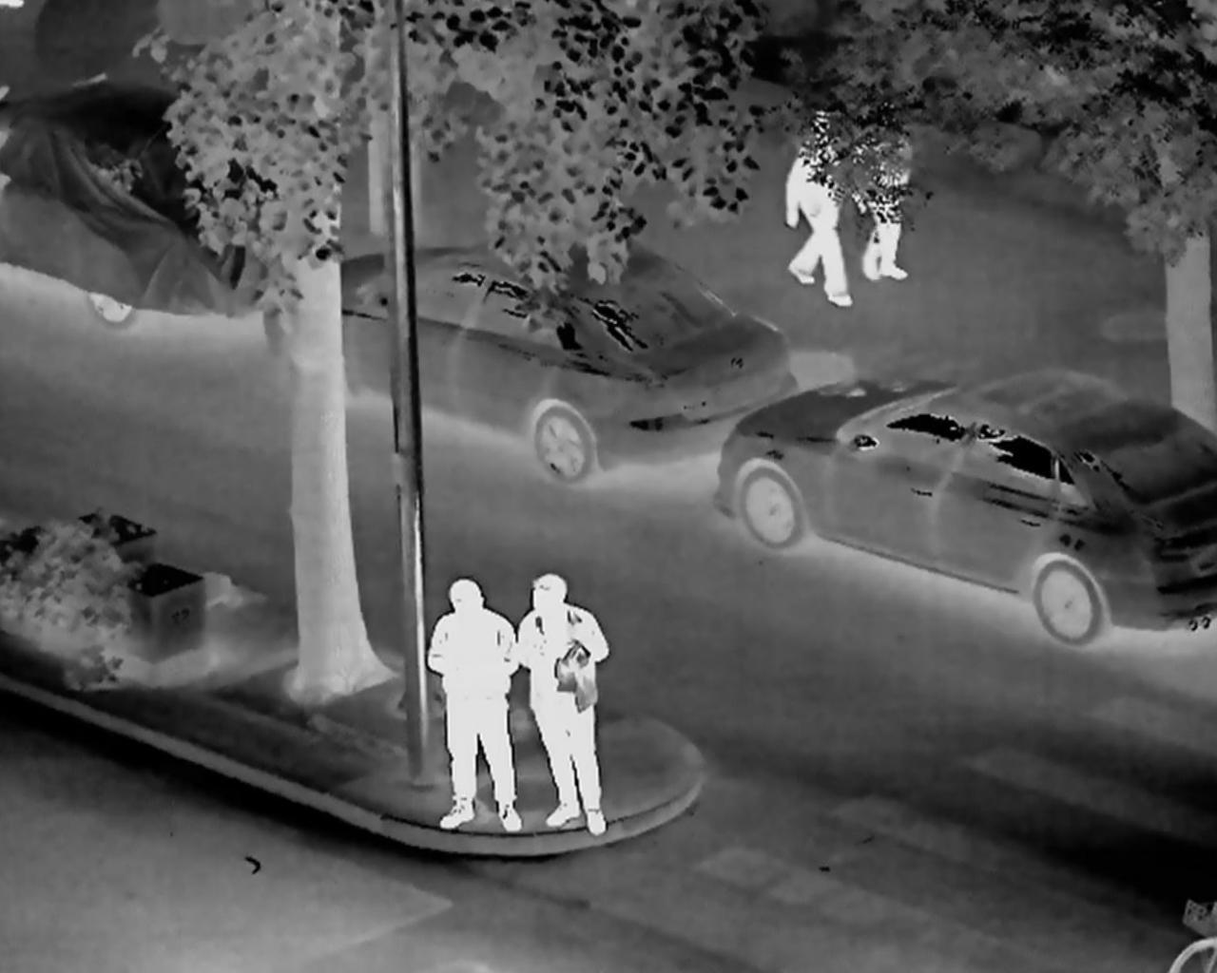person: (427, 576, 527, 848), (512, 569, 610, 835), (784, 111, 863, 315), (843, 102, 918, 288)
